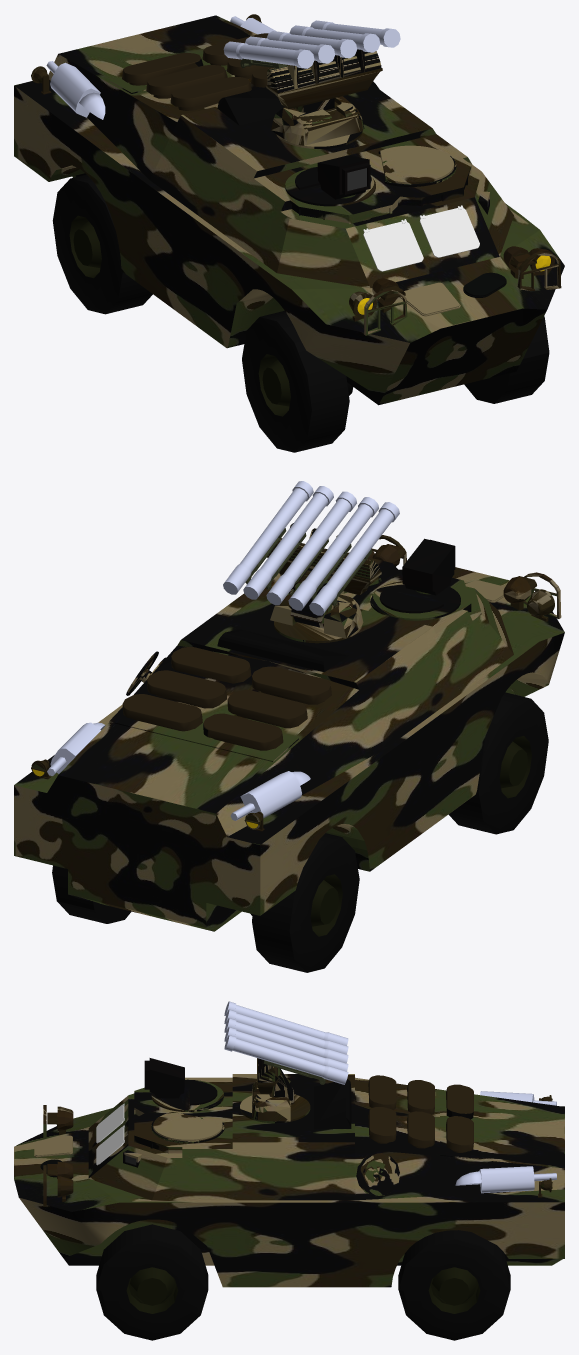
Rendered from BRDM-3_Armored_Reconnaissance_Vehicle.obj.
The picture shows the model from 3 angles, top to bottom: view 1: azimuth 30°, elevation 25°; view 2: azimuth 150°, elevation 25°; view 3: azimuth 270°, elevation 25°; orthographic projection. The views are drawn at different scales.
Visible parts, largest first — view 1: BRDMARMO, BRDMWHEE, BRDMTUMI, BRDMLOUV, BRDMMISS, BRDMDROB, BRDMSUPL, BRDMDRPE, BRDMHATC, BRDMEXHA, BRDMLIGH; view 2: BRDMARMO, BRDMWHEE, BRDMLOUV, BRDMMISS, BRDMTUMI, BRDMDRPE, BRDMEXHA, BRDMLIGH, BRDMSUPL; view 3: BRDMARMO, BRDMWHEE, BRDMLOUV, BRDMMISS, BRDMDRPE, BRDMTUMI, BRDMEXHA, BRDMHATC, BRDMWIHO, BRDMLIGH, BRDMSUPL, BRDMDROB.
Boxes of the visible parts, left/top/right/bottom form: BRDMARMO: left=14, top=15, right=564, bottom=405; BRDMWHEE: left=52, top=174, right=549, bottom=452; BRDMTUMI: left=240, top=49, right=382, bottom=148; BRDMLOUV: left=122, top=33, right=348, bottom=125; BRDMMISS: left=223, top=20, right=400, bottom=68; BRDMDROB: left=363, top=205, right=479, bottom=271; BRDMSUPL: left=363, top=251, right=561, bottom=335; BRDMDRPE: left=285, top=151, right=456, bottom=206; BRDMHATC: left=380, top=145, right=453, bottom=184; BRDMEXHA: left=46, top=16, right=276, bottom=119; BRDMLIGH: left=31, top=14, right=554, bottom=321; BRDMARMO: left=14, top=552, right=564, bottom=931; BRDMWHEE: left=52, top=692, right=548, bottom=972; BRDMLOUV: left=122, top=629, right=348, bottom=750; BRDMMISS: left=223, top=481, right=399, bottom=615; BRDMTUMI: left=245, top=523, right=381, bottom=643; BRDMDRPE: left=294, top=538, right=460, bottom=620; BRDMEXHA: left=47, top=722, right=310, bottom=820; BRDMLIGH: left=31, top=544, right=554, bottom=831; BRDMSUPL: left=371, top=535, right=561, bottom=618; BRDMARMO: left=14, top=1074, right=564, bottom=1287; BRDMWHEE: left=96, top=1224, right=510, bottom=1340; BRDMLOUV: left=314, top=1075, right=473, bottom=1152; BRDMMISS: left=224, top=1001, right=348, bottom=1084; BRDMDRPE: left=144, top=1058, right=224, bottom=1143; BRDMTUMI: left=240, top=1058, right=325, bottom=1123; BRDMEXHA: left=455, top=1091, right=556, bottom=1193; BRDMHATC: left=153, top=1112, right=222, bottom=1141; BRDMWIHO: left=356, top=1153, right=400, bottom=1196; BRDMLIGH: left=47, top=1095, right=552, bottom=1201; BRDMSUPL: left=34, top=1105, right=72, bottom=1206; BRDMDROB: left=96, top=1103, right=124, bottom=1165.
Bounding box in the file's own units: 3141 × 4159 × 7536.
